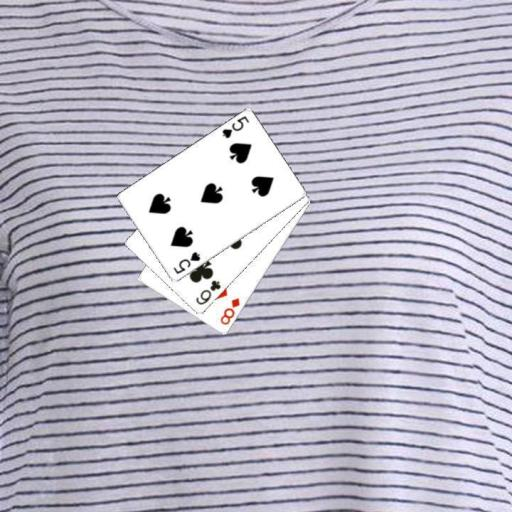card-corner: (170, 249, 202, 276), (218, 113, 250, 140), (192, 278, 222, 306), (217, 294, 242, 326)
